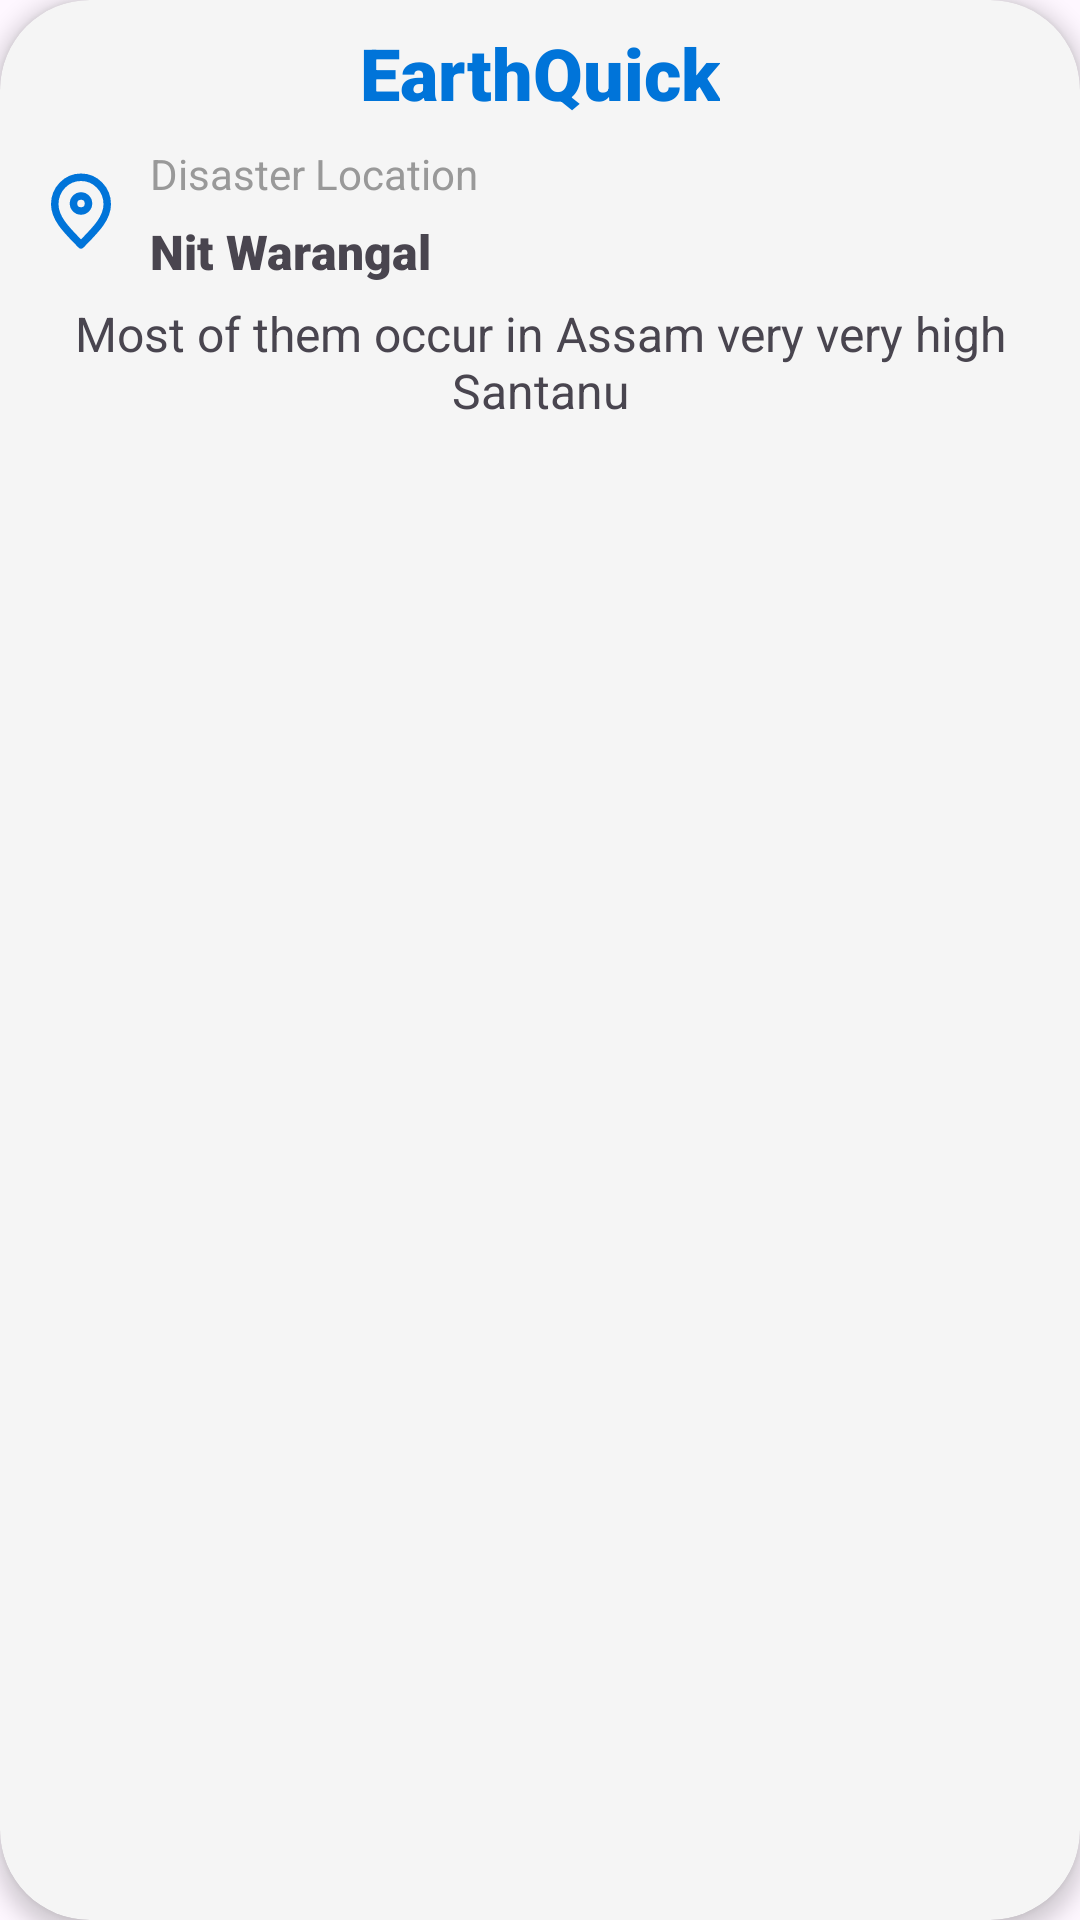

Where icons sit on this 1080px x 1920px app screen, as (x1, y1, x2, y2):
location pin: (51, 173, 111, 249)
